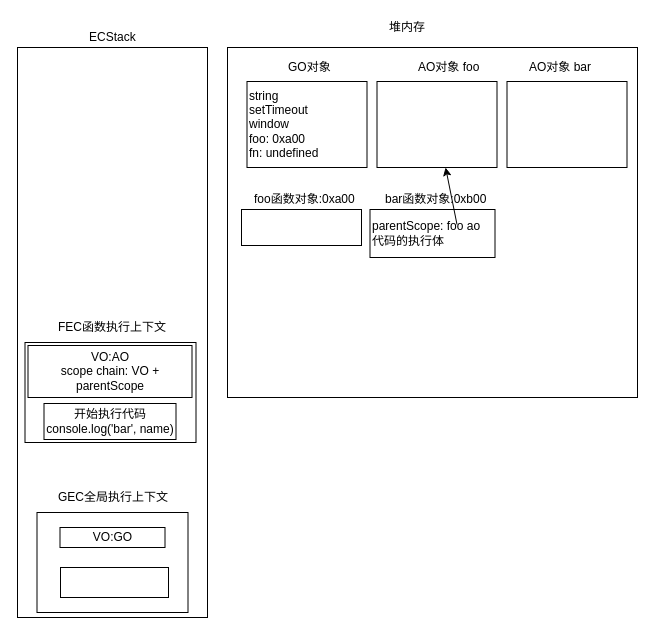
Image size: 655x635. Some labels were removed from this diagram. The centre of each missing label's shape, as x and y in pixels:
bar: 0xb00 name: foo: point 436,124
开始执行代码 var fn = 0xb00: point 114,582
